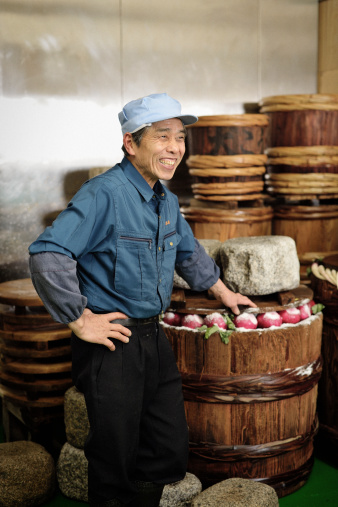em pe: (40, 88, 244, 409)
